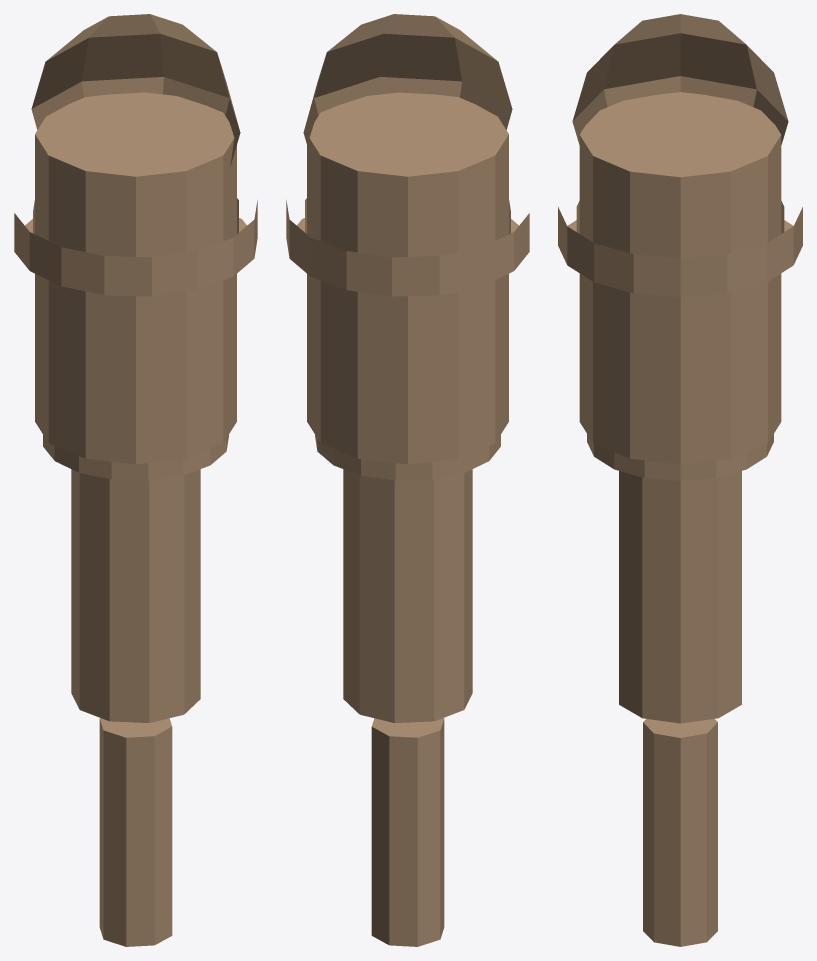
File: weapon_club_wood.glb
3 views of the same model, side by side, from view 1: azimuth 30°, elevation 25°; view 2: azimuth 150°, elevation 25°; view 3: azimuth 270°, elevation 25° (orthographic).
Parts seen in each view (by area): view 1: WeaponClubWood_Node; view 2: WeaponClubWood_Node; view 3: WeaponClubWood_Node.
Part boxes in pixels (x1,y1,x2,y2): WeaponClubWood_Node: (14,14,257,946); WeaponClubWood_Node: (286,14,529,946); WeaponClubWood_Node: (558,14,802,946).
Size of the model in its own units: 0.17 by 0.695 by 0.17.
